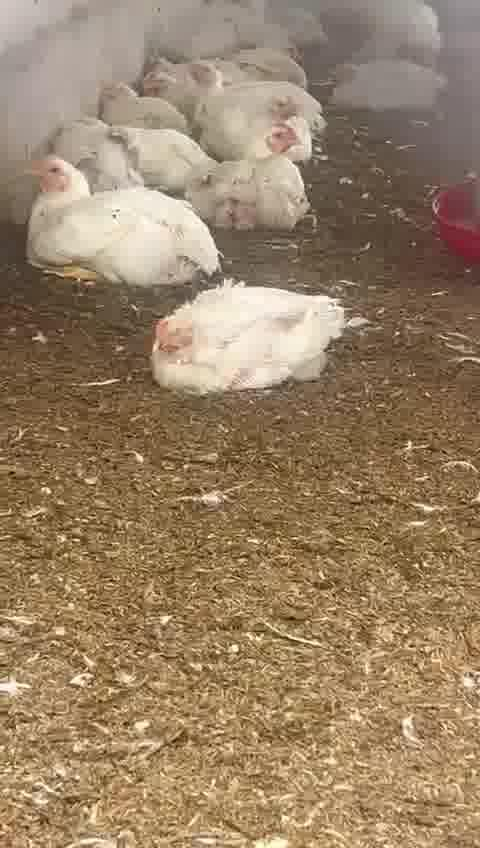AbNormal: (154, 284, 363, 394), (54, 114, 184, 179), (95, 78, 176, 141), (135, 53, 201, 124)
Normal: (200, 117, 327, 236), (183, 62, 322, 121), (327, 47, 459, 109), (216, 93, 325, 141)
